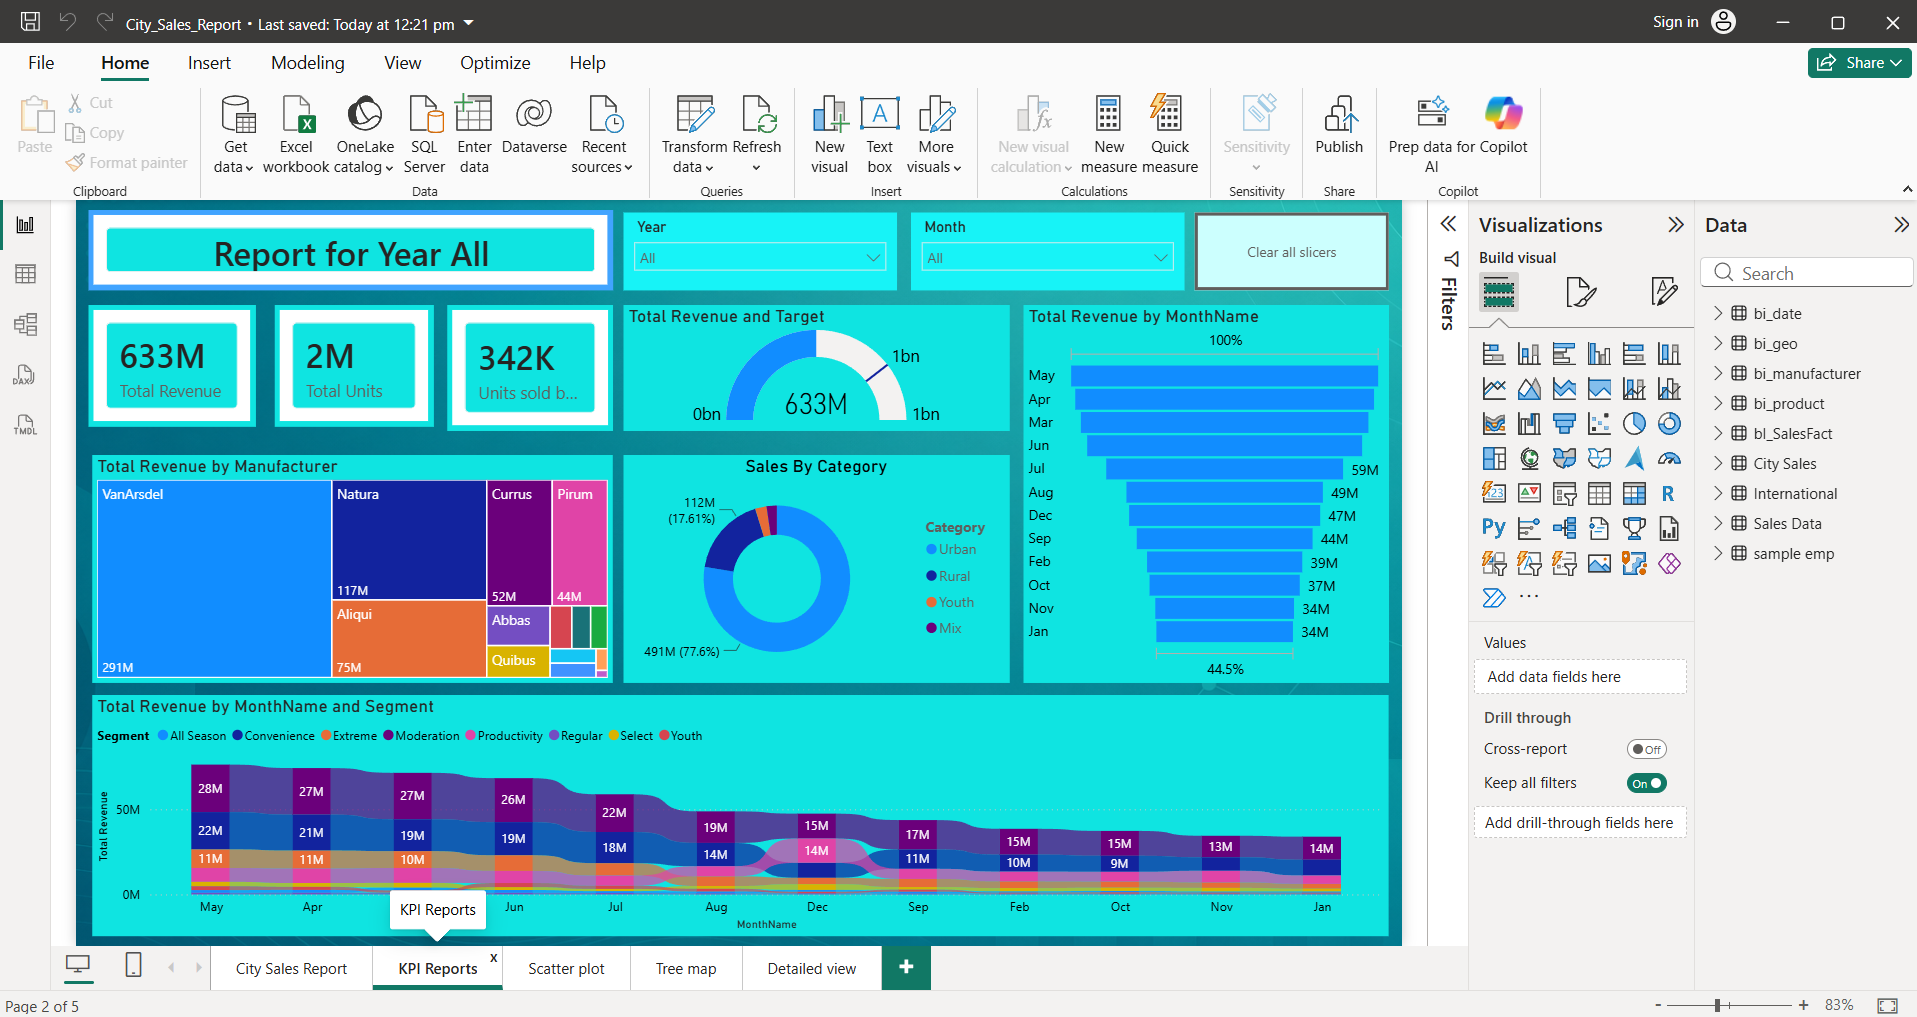

The page's visual inventory and layout, read from the dashboard file:
{"tool":"powerbi","page":{"name":"KPI Reports","canvas":[1280,720],"ordinal":1},"visuals":[{"type":"cardVisual","fields":{"Data":["Sales Data.Total Revenue"]},"box":[12.5,101.2,161.2,117.5],"z":0},{"type":"cardVisual","fields":{"Data":["Sales Data.Total Units"]},"box":[191.2,101.2,153.8,117.5],"z":1000},{"type":"cardVisual","fields":{"Data":["Sales Data.Units sold by Vansardel"]},"box":[358.8,101.2,160,121.2],"z":2000},{"type":"treemap","fields":{"Values":["Sales Data.Total Revenue"],"Group":["bi_manufacturer.Manufacturer"]},"box":[16.2,246.2,502.5,220],"z":3000},{"type":"ribbonChart","fields":{"Category":["bi_date.MonthName"],"Y":["Sales Data.Total Revenue"],"Series":["bi_product.Segment"]},"box":[16.2,477.5,1251.2,232.5],"z":4000},{"type":"donutChart","title":"Sales By Category","fields":{"Y":["Sales Data.Total Revenue"],"Category":["bi_product.Category"]},"box":[528.8,246.2,372.5,220],"z":5000},{"type":"gauge","fields":{"Y":["Sales Data.Total Revenue"],"TargetValue":["Sales Data.Target"]},"box":[528.8,101.2,372.5,121.2],"z":6000},{"type":"funnel","fields":{"Category":["bi_date.MonthName"],"Y":["Sales Data.Total Revenue"]},"box":[915,101.2,352.5,365],"z":7000},{"type":"slicer","fields":{"Values":["bi_date.Year"]},"box":[528.8,12.5,263.8,75],"z":8000},{"type":"slicer","fields":{"Values":["bi_date.Month"]},"box":[806.2,12.5,263.8,75],"z":9000},{"type":"cardVisual","fields":{"Data":["Sales Data.Dynamic Title"]},"box":[12.5,10,506.2,77.5],"z":10000},{"type":"actionButton","box":[1080,12.5,187.5,75],"z":11000}]}

Visuals, with their boxes on the page's 1280x720 design canvas (x1, y1, x2, y2). These are canvas units, not pixel positions in the 1917x1017 screenshot, which may show the page scaled, cropped or inside an application window:
cardVisual - Sales Data.Total Revenue: <box>12,101,174,219</box>
cardVisual - Sales Data.Total Units: <box>191,101,345,219</box>
cardVisual - Sales Data.Units sold by Vansardel: <box>359,101,519,222</box>
treemap - Sales Data.Total Revenue x bi_manufacturer.Manufacturer: <box>16,246,519,466</box>
ribbonChart - bi_date.MonthName x Sales Data.Total Revenue: <box>16,478,1267,710</box>
"Sales By Category" donutChart: <box>529,246,901,466</box>
gauge - Sales Data.Total Revenue x Sales Data.Target: <box>529,101,901,222</box>
funnel - bi_date.MonthName x Sales Data.Total Revenue: <box>915,101,1268,466</box>
slicer - bi_date.Year: <box>529,12,793,88</box>
slicer - bi_date.Month: <box>806,12,1070,88</box>
cardVisual - Sales Data.Dynamic Title: <box>12,10,519,88</box>
actionButton: <box>1080,12,1268,88</box>
